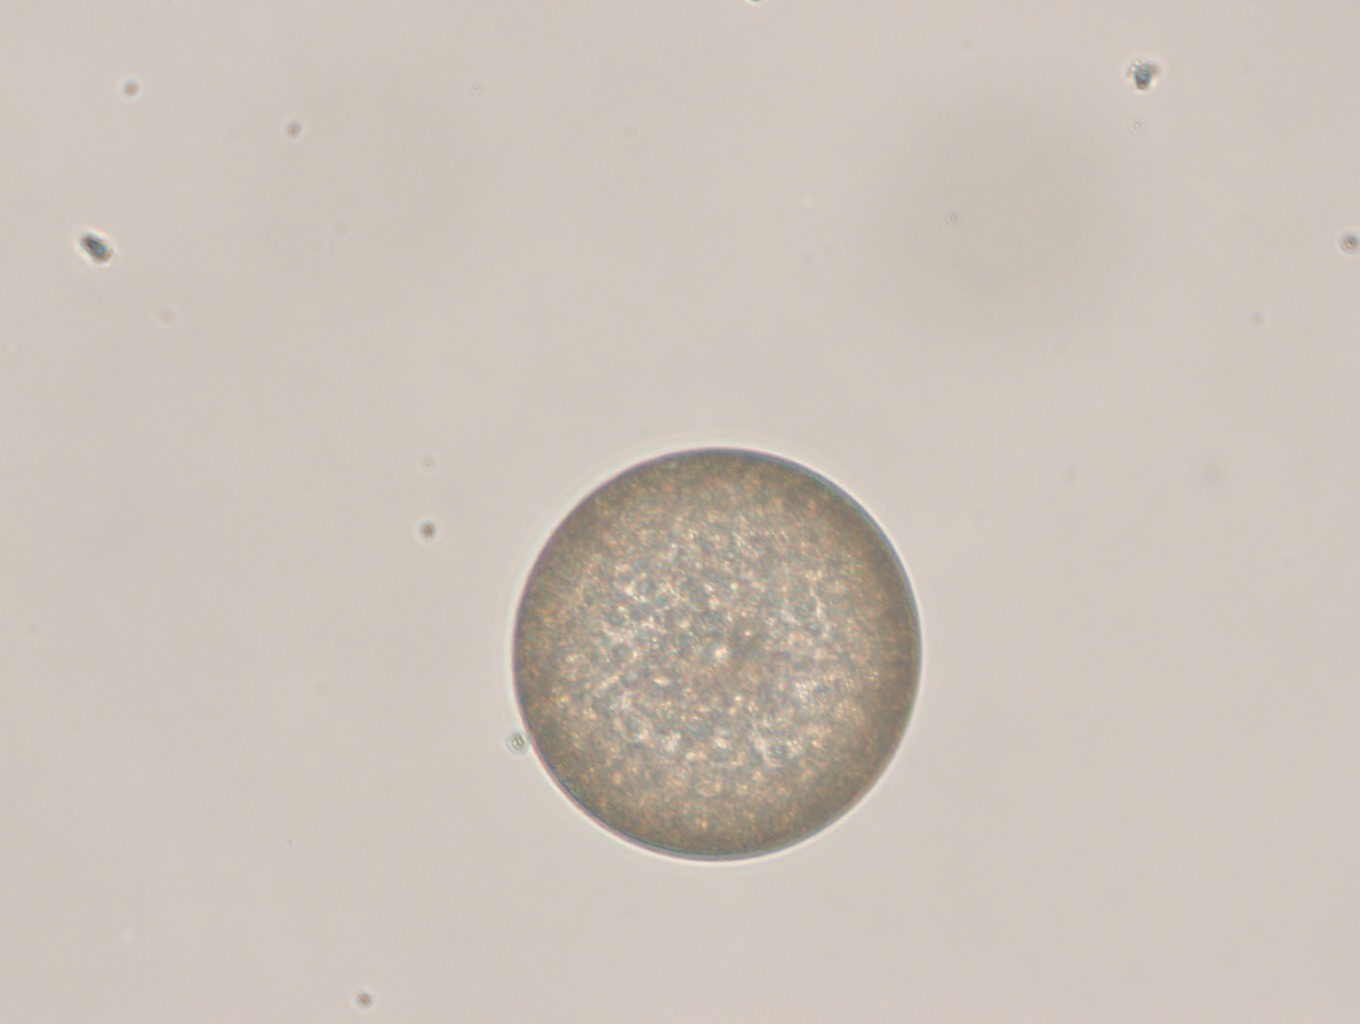coscinodiscus: (506, 443, 940, 870)
